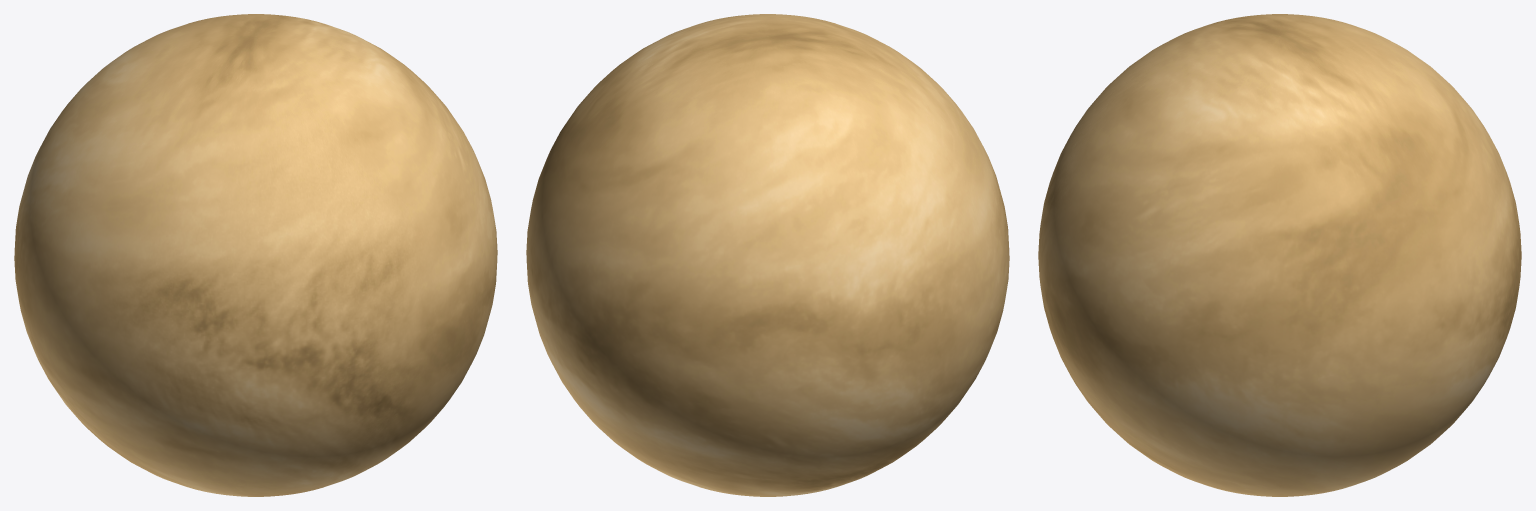
File: venusAtmos.glb
The picture shows the model from 3 angles, left to right: view 1: azimuth 30°, elevation 25°; view 2: azimuth 150°, elevation 25°; view 3: azimuth 270°, elevation 25°; orthographic projection.
Parts seen in each view (by area): view 1: V_Atmosphere; view 2: V_Atmosphere; view 3: V_Atmosphere.
Boxes of the visible parts, <box> form: V_Atmosphere: <box>14,14,497,496</box>; V_Atmosphere: <box>526,14,1009,496</box>; V_Atmosphere: <box>1038,14,1521,496</box>.
Bounding box in the file's own units: 2.1 × 2.1 × 2.1.
1 material, 1 textured.
